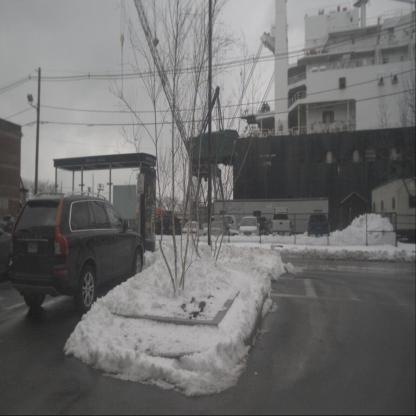vehicle-car: (10, 195, 144, 314), (0, 226, 21, 282), (156, 214, 182, 238), (238, 216, 260, 240), (207, 220, 232, 241), (182, 221, 205, 238), (219, 214, 237, 235)
vehicle-truck: (307, 213, 329, 240), (271, 213, 292, 239), (254, 217, 270, 237)
